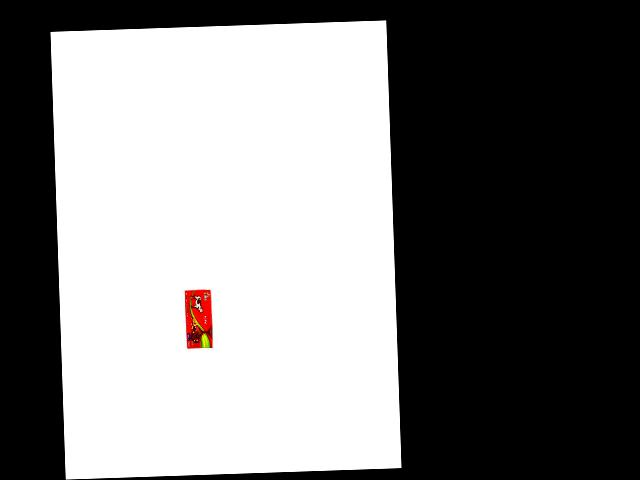chocolate: (179, 285, 214, 350)
